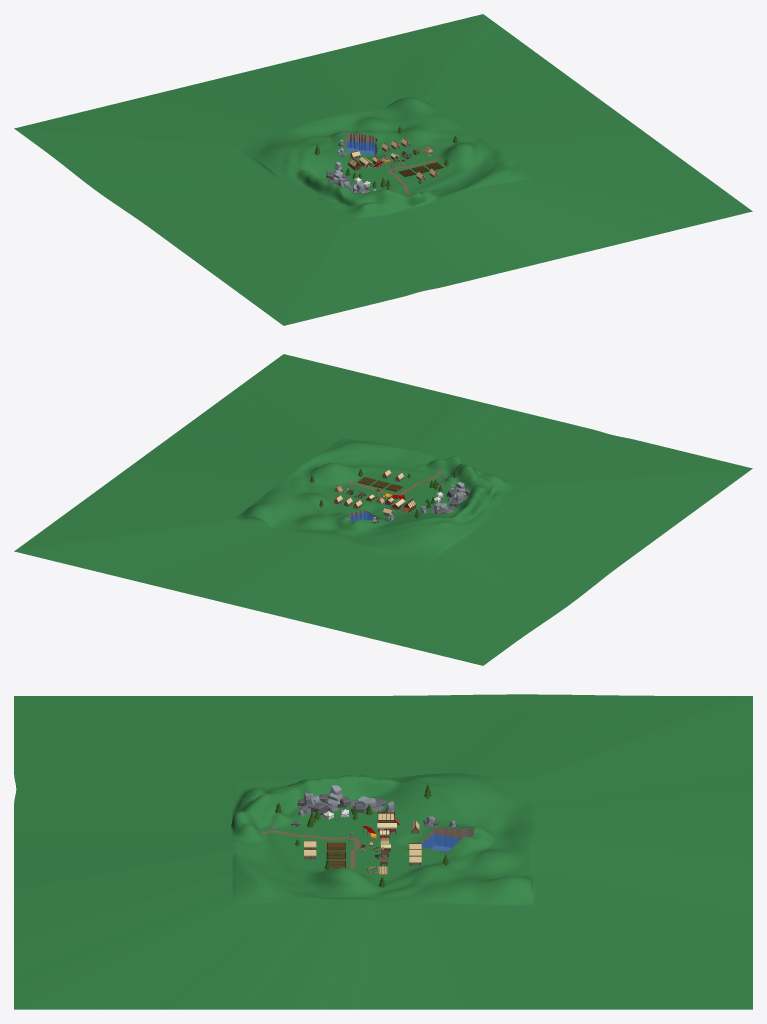
File: lowpoly_Village.fbx
3 renders of one model, top to bottom at view 1: azimuth 30°, elevation 25°; view 2: azimuth 150°, elevation 25°; view 3: azimuth 270°, elevation 25°, orthographic. The views are drawn at different scales.
Parts seen in each view (by area): view 1: pPlane1; view 2: pPlane1; view 3: pPlane1.
Boxes of the visible parts, x1,y1,x2,y2 form: pPlane1: (14, 14, 752, 325); pPlane1: (14, 354, 752, 665); pPlane1: (14, 694, 752, 1009).
Size of the model in its own units: 24332 by 1406 by 24118.
